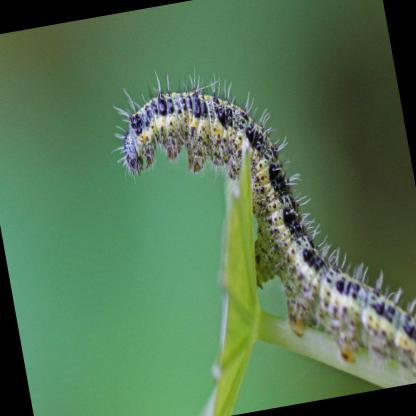pieris: (116, 79, 416, 377)
